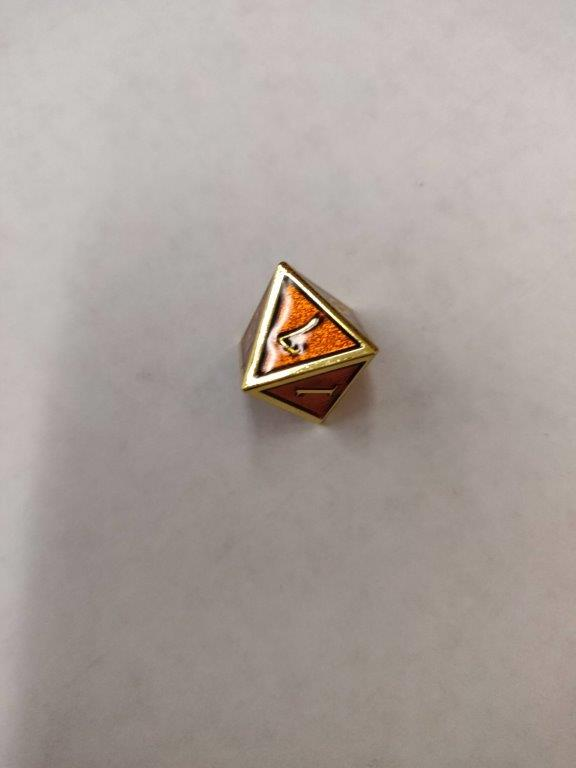d8-7: (235, 260, 380, 432)
